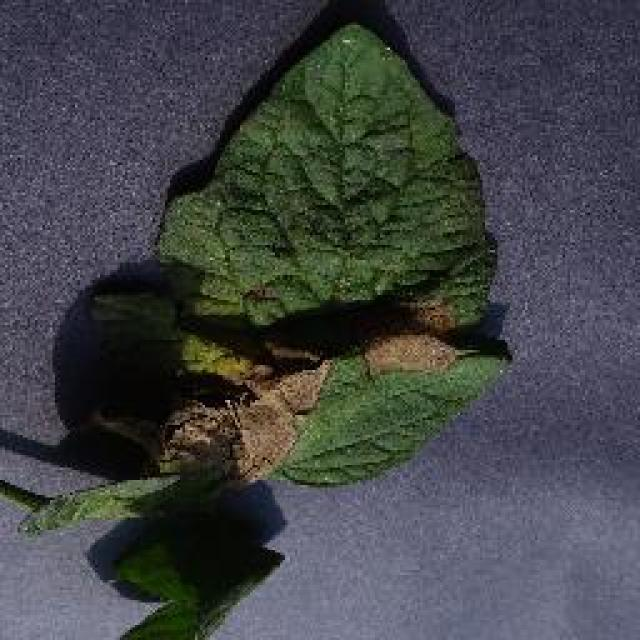Tomato Late Blight: (153, 283, 507, 505)
